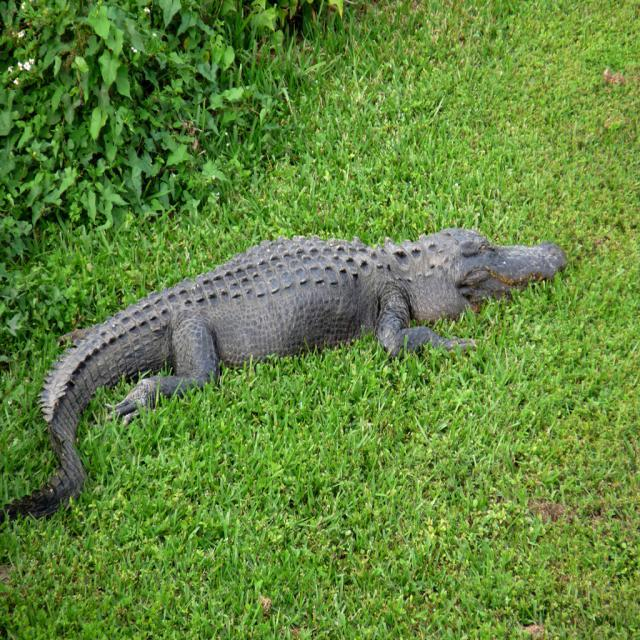crocodile: (0, 221, 567, 524)
